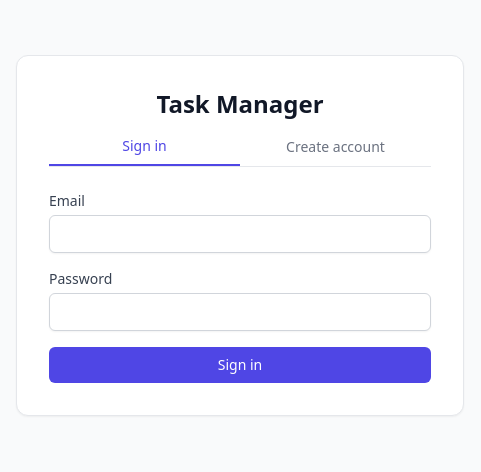
Test: LoginPage › toggles to register form when Create account is clicked
Expected: the button "Sign in" is shown, [49,346,431,382]
What coordinates should you click on to do the following:
click the tab "Create account"
I would click on:
 (336, 146)
Its box is [240,128,431,166].
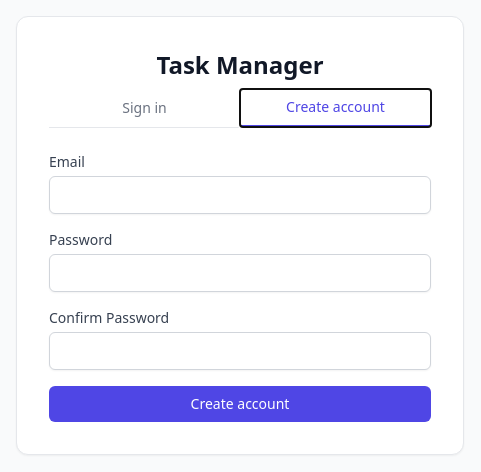
Expected: the password field labelled "Confirm Password" is shown, [49,332,431,370]
